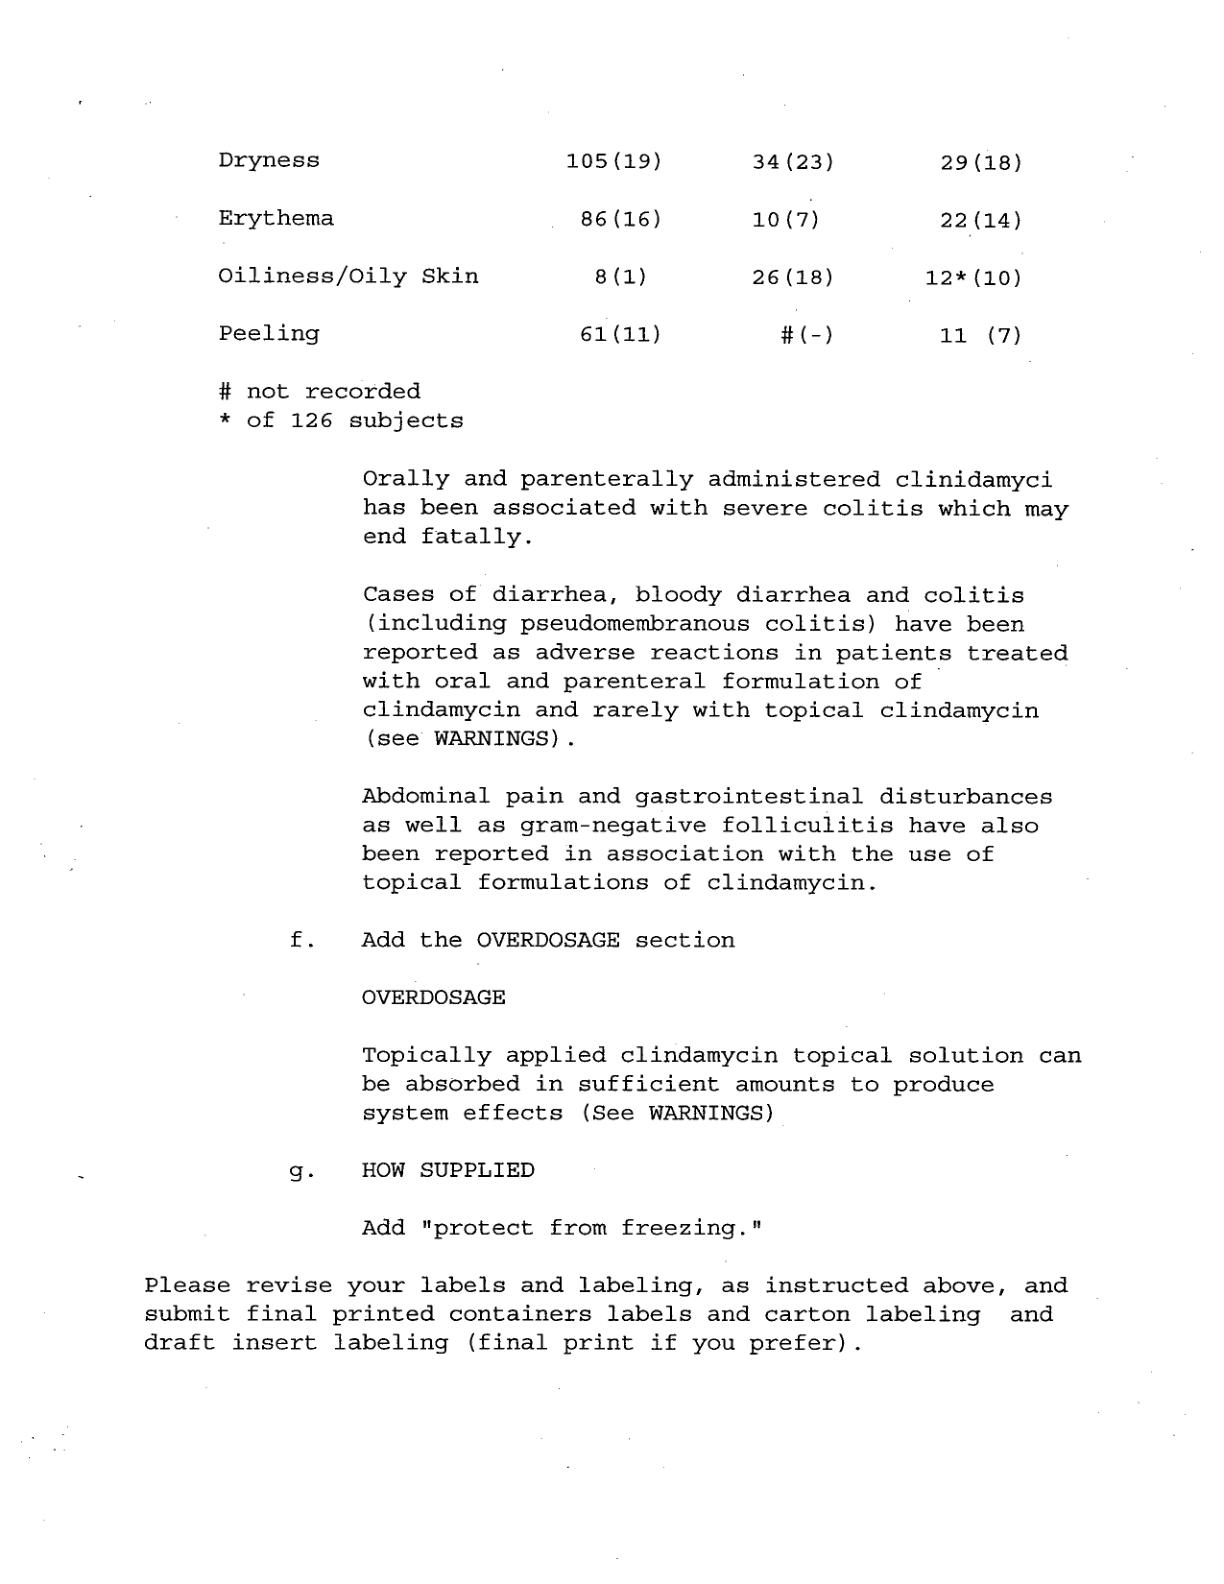nolines: (213, 147, 1026, 352)
